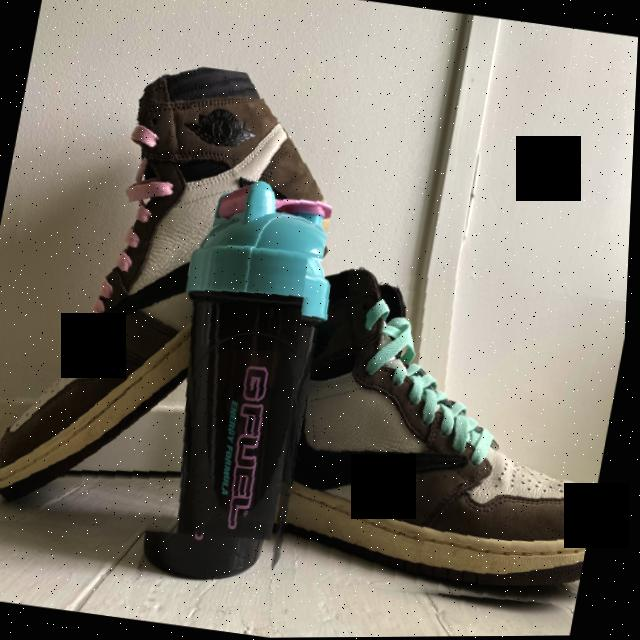shoe: (0, 43, 356, 559), (253, 257, 631, 621)
